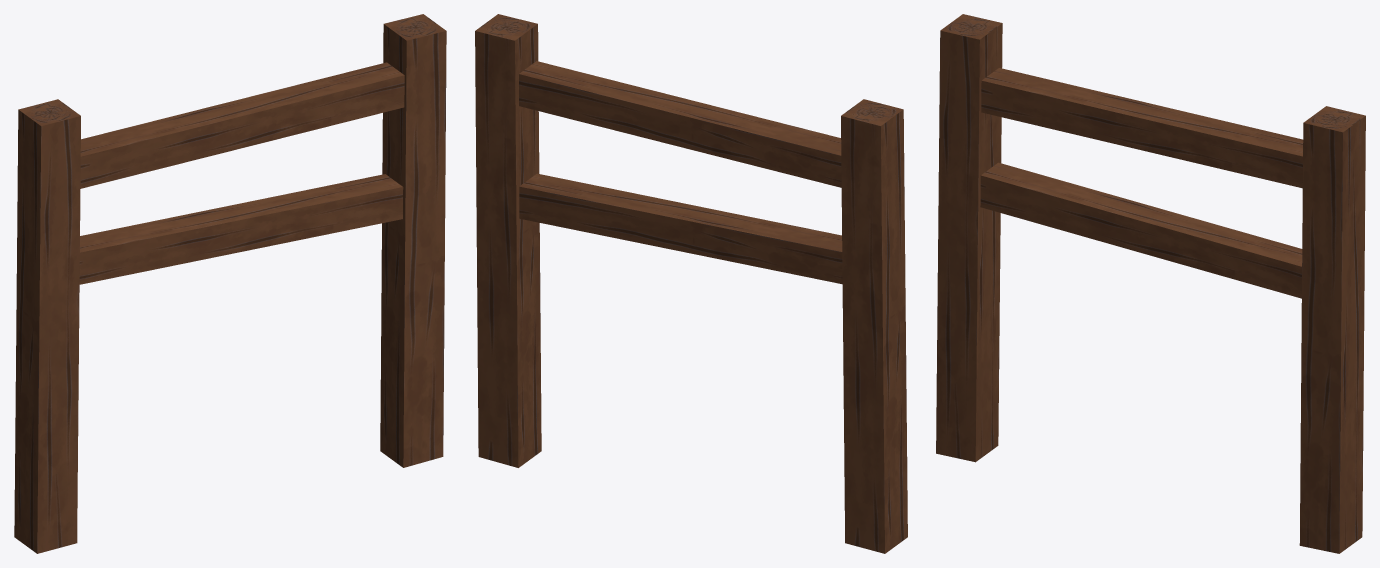
The model's file is fence.fbx.
The picture shows the model from 3 angles, left to right: view 1: azimuth 30°, elevation 25°; view 2: azimuth 150°, elevation 25°; view 3: azimuth 330°, elevation 25°; orthographic projection.
Visible parts, largest first — view 1: Stairs_Fence_1; view 2: Stairs_Fence_1; view 3: Stairs_Fence_1.
Part boxes in pixels (x1=…): Stairs_Fence_1: x1=14, y1=14, x2=446, y2=553; Stairs_Fence_1: x1=475, y1=14, x2=907, y2=553; Stairs_Fence_1: x1=936, y1=14, x2=1365, y2=553.
Bounding box in the file's own units: 137 × 138 × 13.48.
